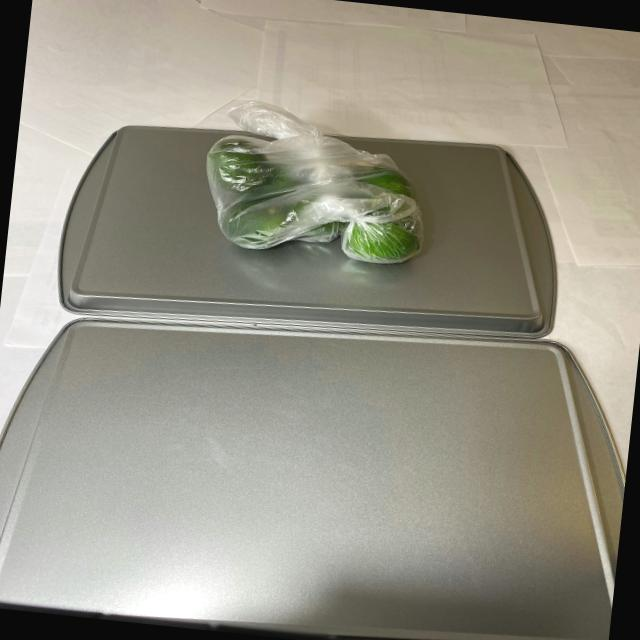lemon: (187, 123, 435, 268)
